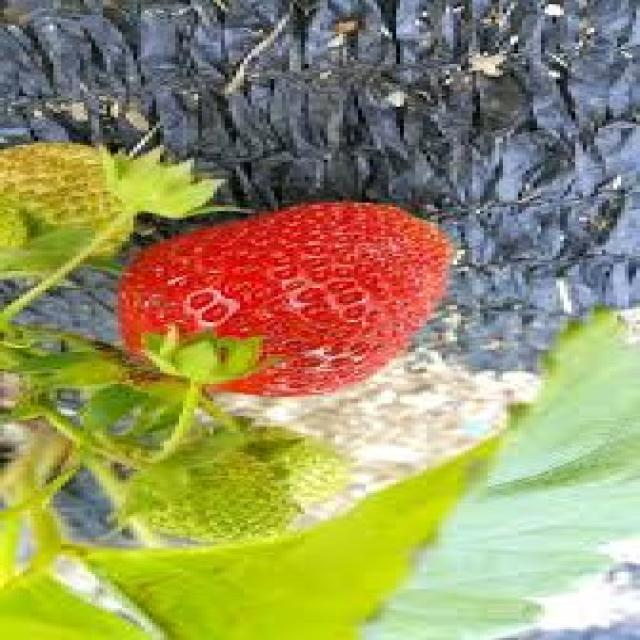mature: (118, 204, 452, 397)
